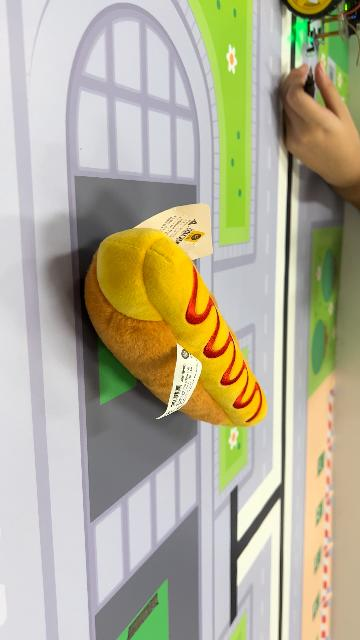hotdog: (84, 226, 270, 429)
